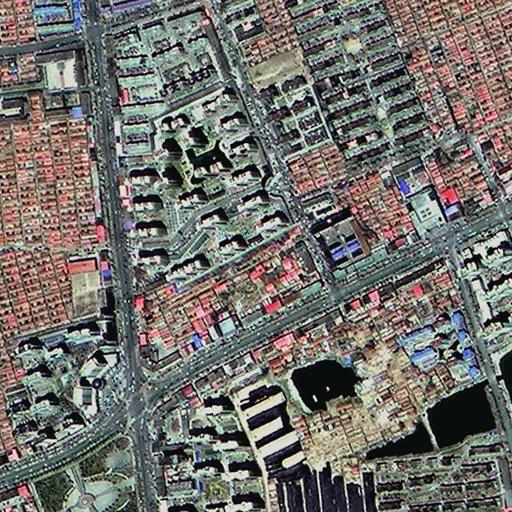school: (67, 252, 106, 323)
